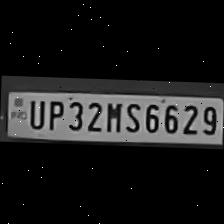2: (83, 97, 103, 132), (179, 100, 199, 135)
3: (63, 96, 83, 131)
6: (142, 100, 160, 134), (160, 100, 178, 134)
9: (198, 102, 218, 135)
M: (102, 97, 122, 132)
P: (44, 96, 64, 130)
S: (122, 98, 142, 133)
U: (23, 96, 44, 130)
